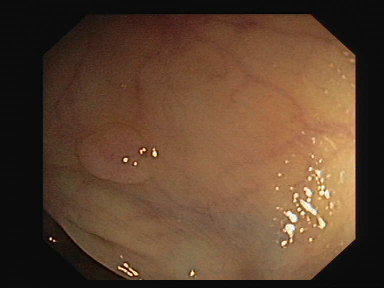polyp: (67, 113, 176, 193)
